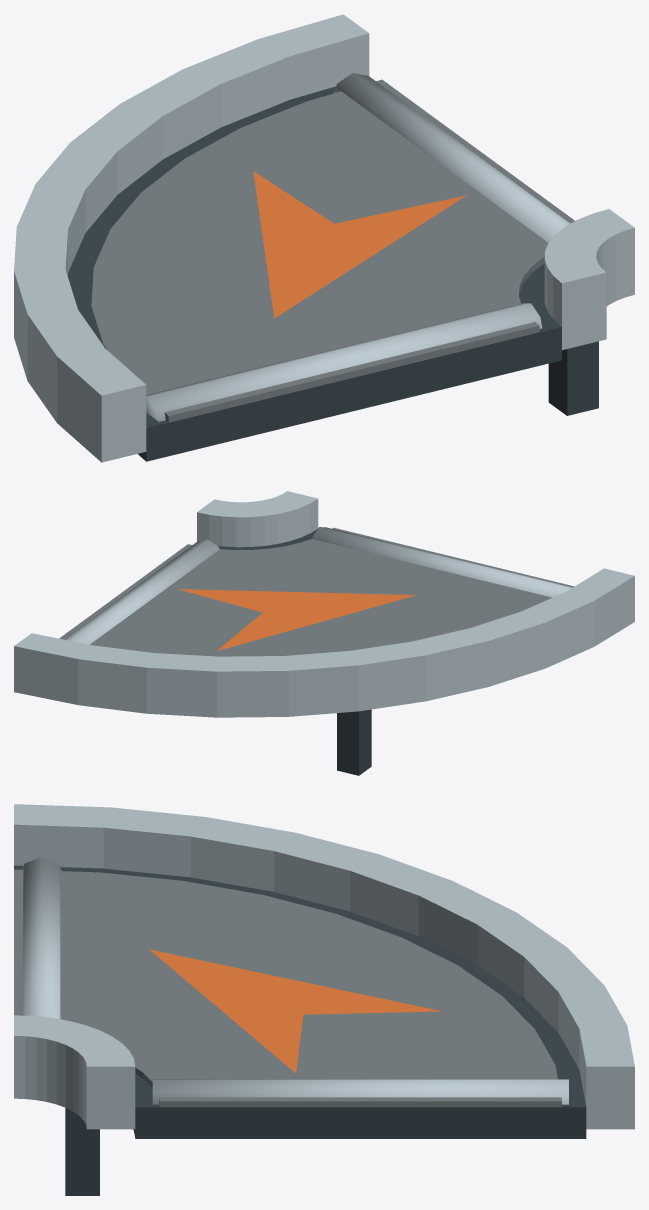
The model's file is conveyor-corner.glb.
3 renders of one model, top to bottom at view 1: azimuth 30°, elevation 25°; view 2: azimuth 150°, elevation 25°; view 3: azimuth 270°, elevation 25°, orthographic. The views are drawn at different scales.
Visible parts, largest first — view 1: conveyor_corner_floor, conveyor_corner_metal, conveyor_corner_dark, conveyor_corner_orange; view 2: conveyor_corner_metal, conveyor_corner_floor, conveyor_corner_orange, conveyor_corner_dark; view 3: conveyor_corner_floor, conveyor_corner_metal, conveyor_corner_dark, conveyor_corner_orange.
Part boxes in pixels (x1,y1,x2,y2): conveyor_corner_floor: (91, 79, 574, 422); conveyor_corner_metal: (14, 14, 634, 462); conveyor_corner_dark: (68, 86, 598, 461); conveyor_corner_orange: (253, 171, 466, 318); conveyor_corner_metal: (14, 491, 634, 717); conveyor_corner_floor: (59, 527, 574, 656); conveyor_corner_orange: (177, 589, 416, 650); conveyor_corner_dark: (218, 529, 371, 775); conveyor_corner_floor: (14, 869, 561, 1107); conveyor_corner_metal: (14, 804, 634, 1129); conveyor_corner_dark: (14, 865, 586, 1195); conveyor_corner_orange: (149, 949, 442, 1073).
Bounding box in the file's own units: 1.79 × 0.48 × 1.79.
